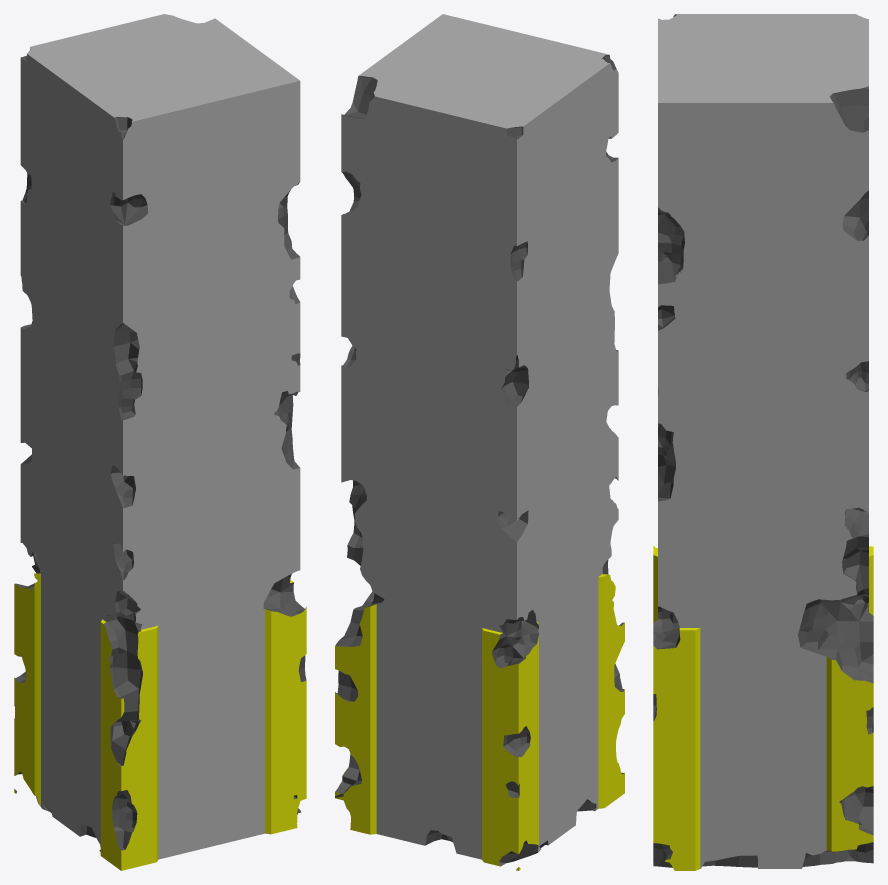
The model's file is pillar new 1.glb.
3 renders of one model, left to right at view 1: azimuth 30°, elevation 25°; view 2: azimuth 150°, elevation 25°; view 3: azimuth 270°, elevation 25°, orthographic. The views are drawn at different scales.
Visible parts, largest first — view 1: pillier neuf; view 2: pillier neuf; view 3: pillier neuf.
Boxes of the visible parts, x1,y1,x2,y2 form: pillier neuf: (14,14,306,870); pillier neuf: (335,14,624,870); pillier neuf: (653,14,873,870).
Size of the model in its own units: 3.35 by 12.83 by 3.35.
